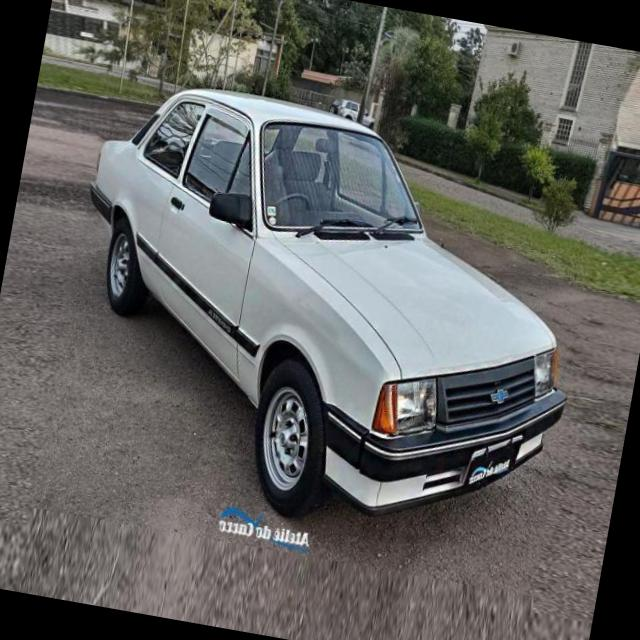car: (35, 68, 608, 568)
